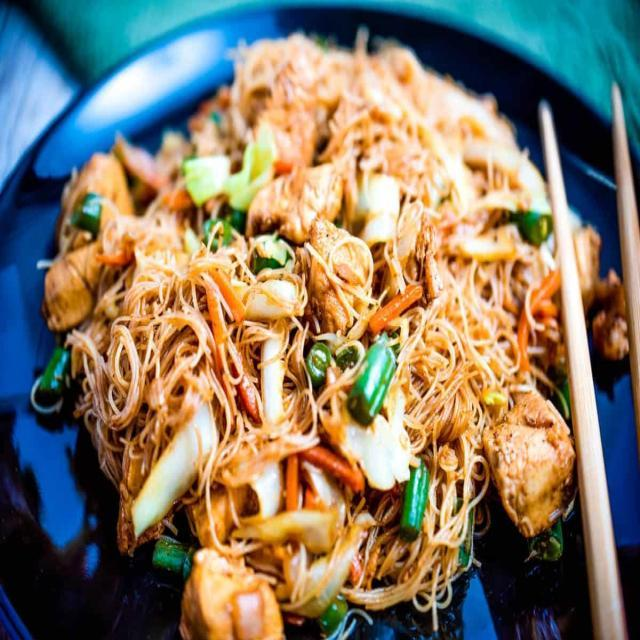pancit bihon: (48, 45, 632, 632)
